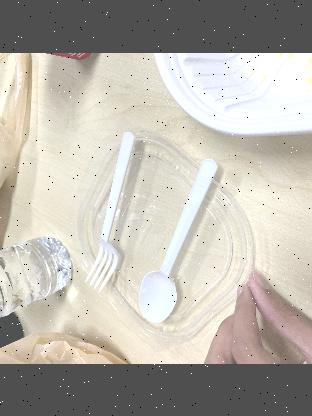Others: (127, 155, 231, 321), (82, 127, 142, 287)
